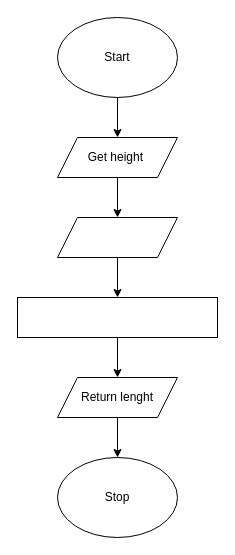
The diagram is 235 pixels wide and 555 high, and some of its shapes have lost their labels. The centre of each missing label's shape, as x and y in pixels:
Get width: (117,237)
length = size / (height * width): (117,317)
